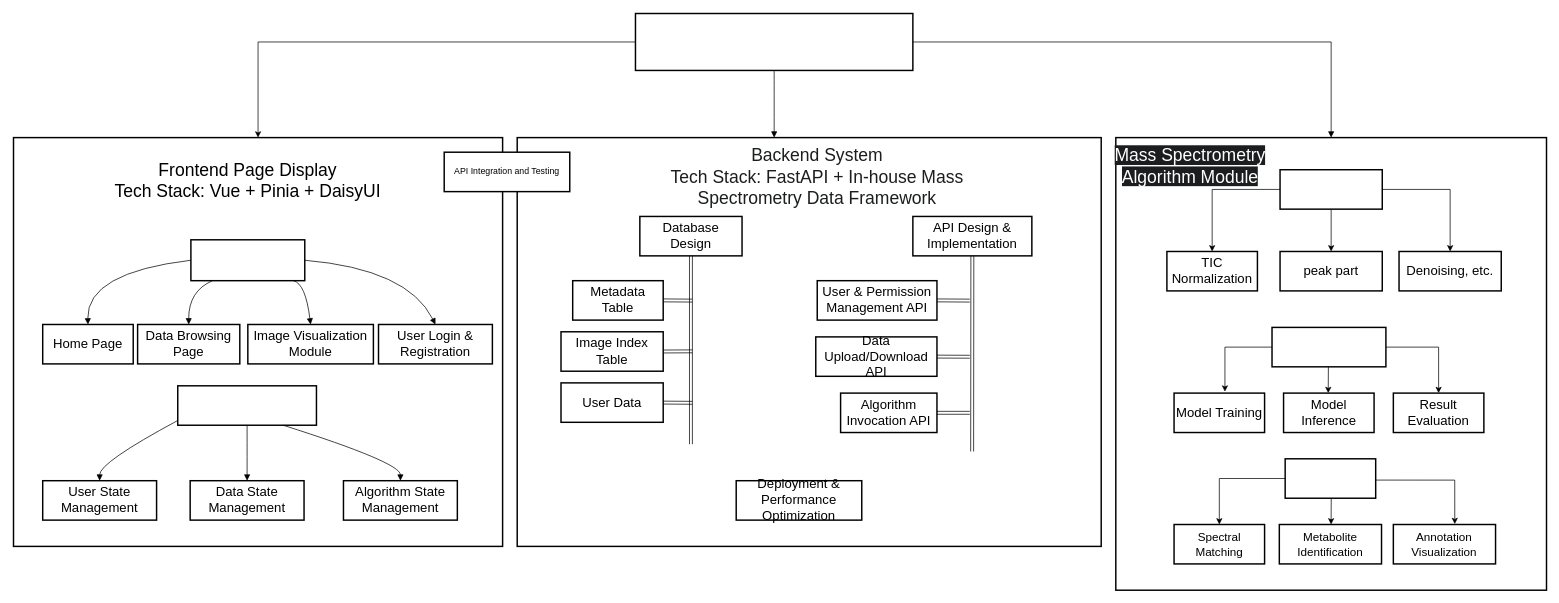
This 1559x603 diagram has some shape labels left out. Each missing label, with the box of its shape:
Data Preprocessing: (1279, 169, 1383, 210)
Molecular Annotation: (1284, 458, 1376, 499)
Online Spatial Metabolomics Database: (634, 12, 913, 71)
Page Module Development (Vue + DaisyUI): (190, 239, 305, 281)
State Management (Pinia): (177, 385, 317, 426)
Super-Resolution Reconstruction: (1271, 326, 1386, 367)
